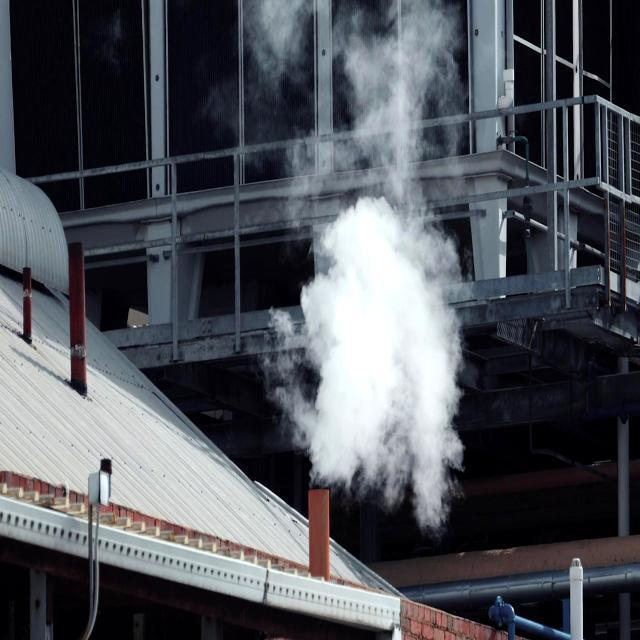Smoke: (272, 0, 490, 531)
